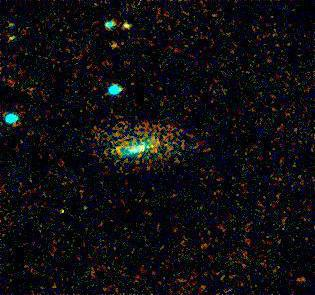star: (100, 31, 130, 61)
